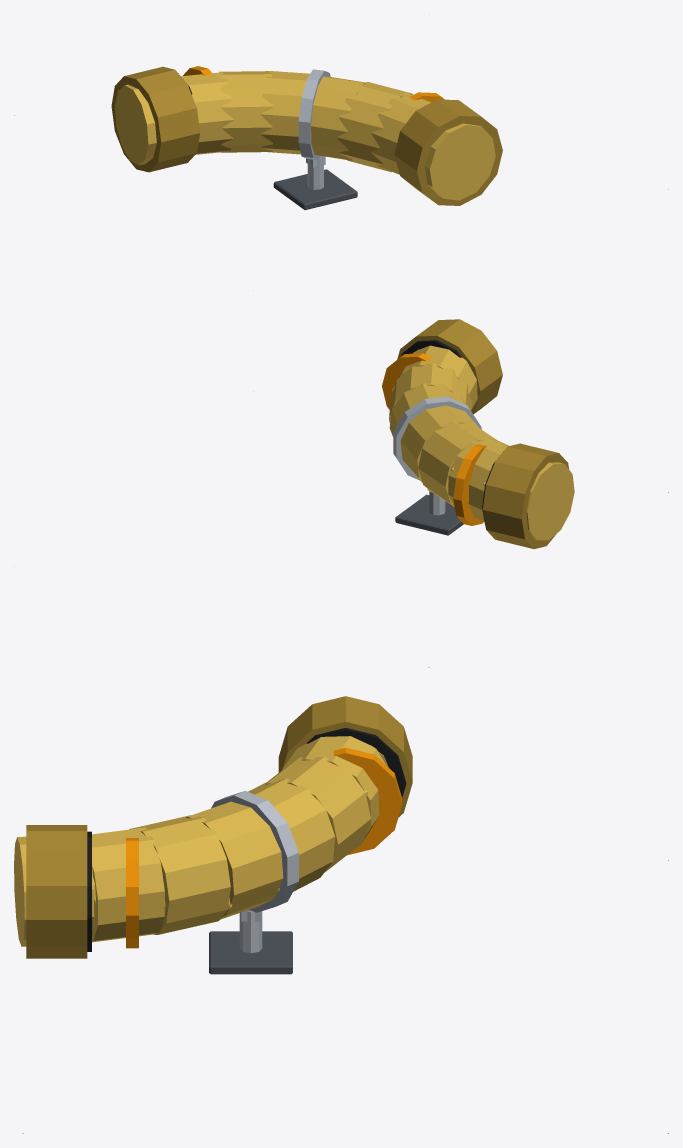
The model's file is tuyau_coude_t2.glb.
3 renders of one model, top to bottom at view 1: azimuth 30°, elevation 25°; view 2: azimuth 150°, elevation 25°; view 3: azimuth 270°, elevation 25°, orthographic. The views are drawn at different scales.
Visible parts, largest first — view 1: pieces_laiton.014, pieces_laiton_sombre.014, pieces_acier_sombre.050, pieces_gris_clair.014, pieces_rive_t2.016; view 2: pieces_laiton.014, pieces_laiton_sombre.014, pieces_rive_t2.016, pieces_gris_clair.014, pieces_acier_sombre.050; view 3: pieces_laiton.014, pieces_laiton_sombre.014, pieces_rive_t2.016, pieces_gris_clair.014, pieces_acier_sombre.050, pieces_noir.022.
Part boxes in pixels (<box>): pieces_laiton.014: <box>115,71,495,200</box>; pieces_laiton_sombre.014: <box>111,66,502,205</box>; pieces_acier_sombre.050: <box>273,169,357,210</box>; pieces_gris_clair.014: <box>298,69,330,189</box>; pieces_rive_t2.016: <box>183,66,444,102</box>; pieces_laiton.014: <box>389,345,574,540</box>; pieces_laiton_sombre.014: <box>397,319,569,549</box>; pieces_rive_t2.016: <box>382,353,486,525</box>; pieces_gris_clair.014: <box>393,396,481,515</box>; pieces_acier_sombre.050: <box>395,494,463,535</box>; pieces_laiton.014: <box>14,736,388,946</box>; pieces_laiton_sombre.014: <box>26,696,412,958</box>; pieces_rive_t2.016: <box>126,747,402,948</box>; pieces_gris_clair.014: <box>211,791,298,953</box>; pieces_acier_sombre.050: <box>209,931,292,974</box>; pieces_noir.022: <box>87,728,406,951</box>.
Bounding box in the file's own units: 1.01 × 0.2837 × 1.01.
